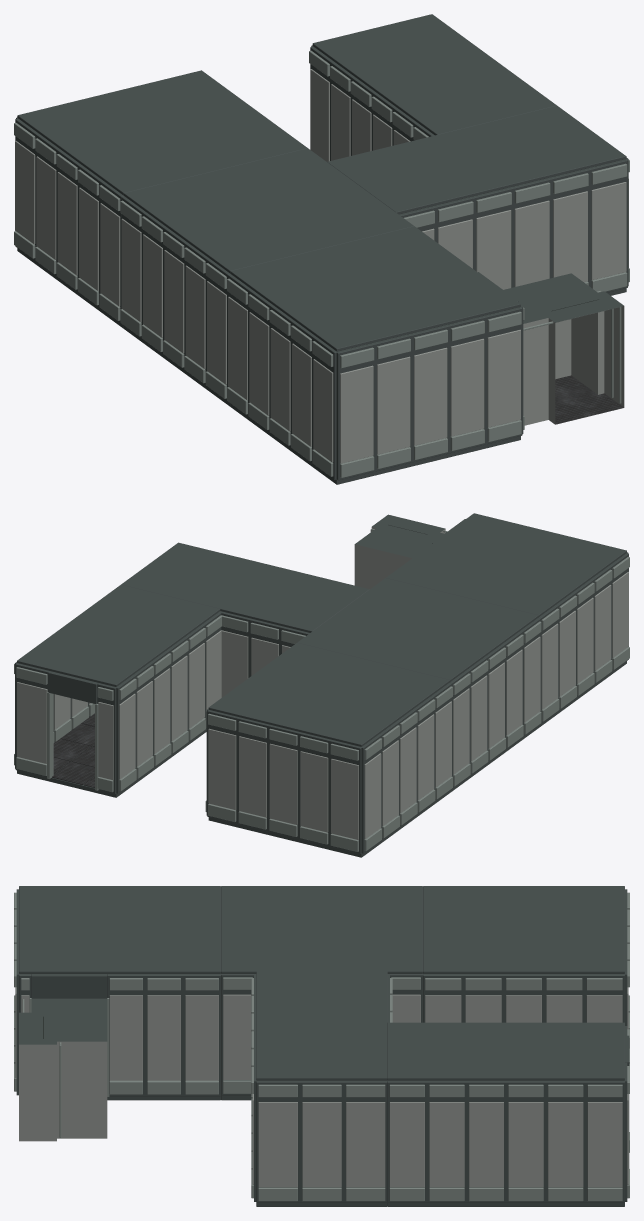
Rendered from ship_layout_b.glb.
The picture shows the model from 3 angles, top to bottom: view 1: azimuth 30°, elevation 25°; view 2: azimuth 150°, elevation 25°; view 3: azimuth 270°, elevation 25°; orthographic projection. The views are drawn at different scales.
Parts seen in each view (by area): view 1: airlock structural_graphite, airlock wall_airlock, quarters structural_graphite, common structural_graphite, passage structural_graphite, turn structural_graphite, passage wall_technical, quarters wall_quarters, common wall_common, airlock_tunnel wall_airlock, airlock brushed_edges, turn wall_technical (+7 smaller); view 2: quarters structural_graphite, quarters wall_quarters, turn structural_graphite, airlock structural_graphite, common structural_graphite, passage structural_graphite, turn wall_technical, airlock wall_airlock, common wall_common, quarters brushed_edges, turn brushed_edges, passage wall_technical (+6 smaller); view 3: airlock structural_graphite, turn structural_graphite, quarters structural_graphite, passage structural_graphite, turn wall_technical, common structural_graphite, passage wall_technical, airlock wall_airlock, airlock_tunnel wall_airlock, turn brushed_edges, quarters wall_quarters, passage brushed_edges (+5 smaller).
Part boxes in pixels (left/top/right/bottom): airlock structural_graphite: left=228, top=226, right=523, bottom=484; airlock wall_airlock: left=228, top=297, right=520, bottom=463; quarters structural_graphite: left=15, top=70, right=307, bottom=328; common structural_graphite: left=121, top=148, right=414, bottom=406; passage structural_graphite: left=327, top=105, right=628, bottom=295; turn structural_graphite: left=310, top=14, right=556, bottom=160; passage wall_technical: left=422, top=179, right=628, bottom=289; quarters wall_quarters: left=15, top=141, right=120, bottom=306; common wall_common: left=121, top=218, right=226, bottom=384; airlock_tunnel wall_airlock: left=523, top=306, right=624, bottom=425; airlock brushed_edges: left=227, top=278, right=524, bottom=477; turn wall_technical: left=310, top=69, right=410, bottom=161; quarters structural_graphite: left=206, top=643, right=451, bottom=857; quarters wall_quarters: left=208, top=701, right=451, bottom=839; turn structural_graphite: left=15, top=585, right=221, bottom=797; airlock structural_graphite: left=386, top=513, right=628, bottom=727; common structural_graphite: left=297, top=578, right=540, bottom=792; passage structural_graphite: left=121, top=542, right=369, bottom=677; turn wall_technical: left=17, top=630, right=221, bottom=780; airlock wall_airlock: left=541, top=572, right=628, bottom=709; common wall_common: left=453, top=636, right=540, bottom=774; quarters brushed_edges: left=205, top=686, right=452, bottom=851; turn brushed_edges: left=14, top=615, right=222, bottom=792; passage wall_technical: left=220, top=611, right=290, bottom=697; airlock structural_graphite: left=16, top=886, right=220, bottom=1100; turn structural_graphite: left=387, top=1022, right=629, bottom=1206; quarters structural_graphite: left=423, top=886, right=627, bottom=1025; passage structural_graphite: left=254, top=971, right=389, bottom=1206; turn wall_technical: left=389, top=1094, right=628, bottom=1187; common structural_graphite: left=221, top=886, right=422, bottom=1100; passage wall_technical: left=252, top=1094, right=385, bottom=1187; airlock wall_airlock: left=15, top=987, right=218, bottom=1080; airlock_tunnel wall_airlock: left=19, top=1041, right=107, bottom=1141; turn brushed_edges: left=389, top=1029, right=629, bottom=1201; quarters wall_quarters: left=425, top=987, right=628, bottom=1029; passage brushed_edges: left=251, top=978, right=392, bottom=1201.
Bounding box in the file's own units: 9.2 × 2.82 × 12.2.
Materials: 14 (3 with a texture image).
